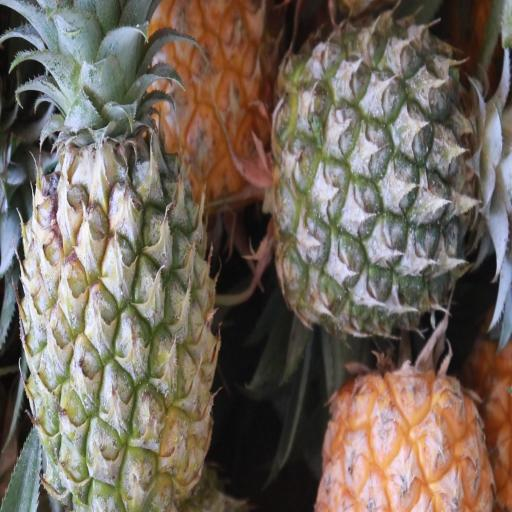Pineapple - v8 v1: (319, 348, 507, 512), (154, 0, 274, 212)
